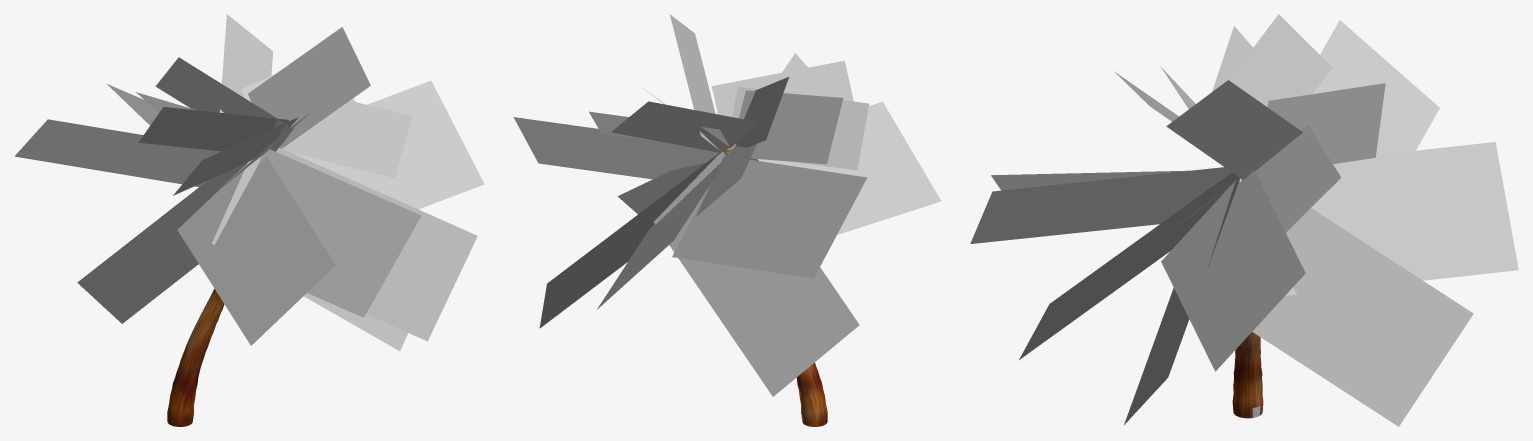
Rendered from PM_PalmTree.fbx.
3 renders of one model, left to right at view 1: azimuth 30°, elevation 25°; view 2: azimuth 150°, elevation 25°; view 3: azimuth 270°, elevation 25°, orthographic. The views are drawn at different scales.
Parts seen in each view (by area): view 1: polySurface19, polySurface1, polySurface4, polySurface6, polySurface20, polySurface18, polySurface13, polySurface14, polySurface11, polySurface10, polySurface3, polySurface8 (+3 smaller); view 2: polySurface18, polySurface20, polySurface19, polySurface4, polySurface2, polySurface11, polySurface8, polySurface15, polySurface17, polySurface7, polySurface13, polySurface10 (+4 smaller); view 3: polySurface2, polySurface17, polySurface4, polySurface1, polySurface13, polySurface6, polySurface18, polySurface8, polySurface10, polySurface12, polySurface5, polySurface3 (+3 smaller).
Boxes of the visible parts, left/top/right/bottom form: polySurface19: left=177, top=157, right=335, bottom=345; polySurface1: left=258, top=149, right=421, bottom=317; polySurface4: left=292, top=80, right=484, bottom=209; polySurface6: left=276, top=147, right=477, bottom=341; polySurface20: left=77, top=163, right=246, bottom=323; polySurface18: left=14, top=119, right=221, bottom=186; polySurface13: left=248, top=27, right=370, bottom=148; polySurface14: left=282, top=101, right=412, bottom=178; polySurface11: left=138, top=107, right=288, bottom=151; polySurface10: left=155, top=57, right=293, bottom=151; polySurface3: left=167, top=289, right=224, bottom=426; polySurface8: left=219, top=14, right=273, bottom=112; polySurface18: left=672, top=159, right=867, bottom=278; polySurface20: left=654, top=144, right=859, bottom=396; polySurface19: left=757, top=101, right=940, bottom=234; polySurface4: left=513, top=117, right=719, bottom=179; polySurface2: left=539, top=152, right=720, bottom=328; polySurface11: left=739, top=90, right=843, bottom=164; polySurface8: left=611, top=101, right=756, bottom=152; polySurface15: left=711, top=60, right=853, bottom=116; polySurface17: left=597, top=162, right=724, bottom=309; polySurface7: left=732, top=86, right=869, bottom=170; polySurface13: left=669, top=14, right=719, bottom=150; polySurface10: left=735, top=77, right=788, bottom=147; polySurface2: left=1252, top=208, right=1473, bottom=426; polySurface17: left=1239, top=142, right=1518, bottom=295; polySurface4: left=1161, top=170, right=1305, bottom=371; polySurface1: left=970, top=167, right=1231, bottom=243; polySurface13: left=1166, top=80, right=1302, bottom=180; polySurface6: left=1019, top=172, right=1236, bottom=359; polySurface18: left=1313, top=20, right=1439, bottom=152; polySurface8: left=1267, top=83, right=1385, bottom=164; polySurface10: left=1229, top=14, right=1332, bottom=179; polySurface12: left=1255, top=125, right=1341, bottom=232; polySurface5: left=1124, top=175, right=1240, bottom=424; polySurface3: left=1232, top=332, right=1263, bottom=418.
Size of the model in its own units: 1790 by 1625 by 1931.
